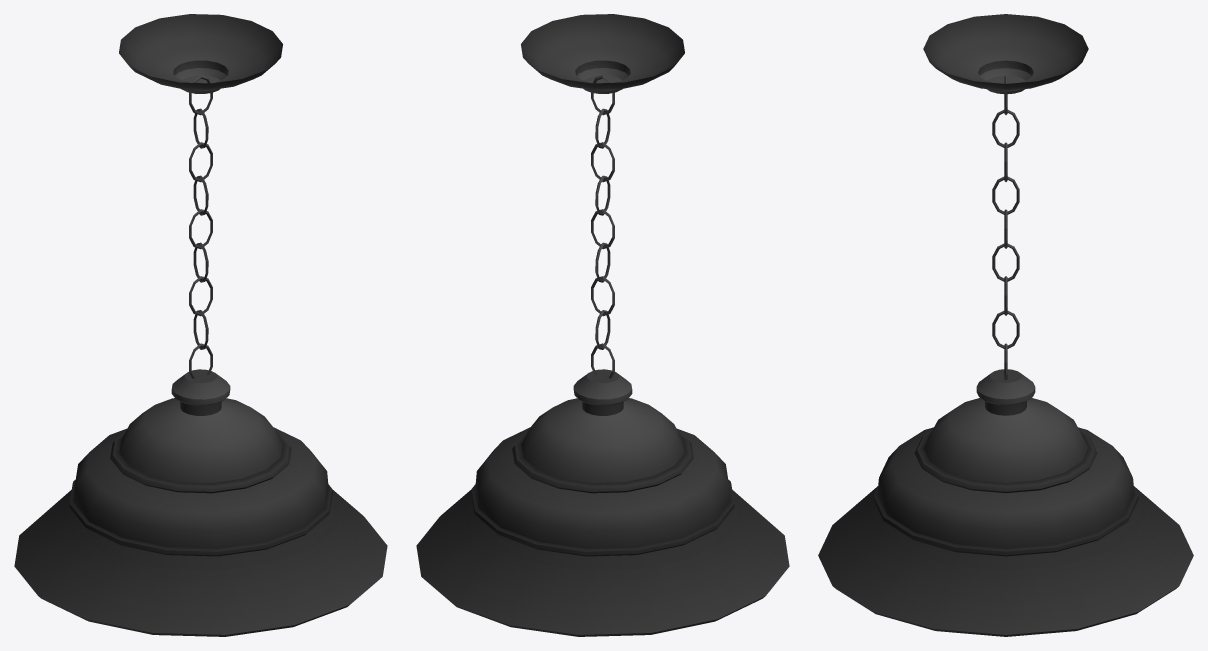
File: overheadLamp.fbx
The picture shows the model from 3 angles, left to right: view 1: azimuth 30°, elevation 25°; view 2: azimuth 150°, elevation 25°; view 3: azimuth 270°, elevation 25°; orthographic projection.
Parts seen in each view (by area): view 1: overheadLamp; view 2: overheadLamp; view 3: overheadLamp.
Part boxes in pixels (box(x1,y1,x2,y2)): overheadLamp: box(14, 14, 387, 636); overheadLamp: box(416, 14, 789, 636); overheadLamp: box(818, 14, 1193, 636).
Bounding box in the file's own units: 0.5403 × 0.8092 × 0.5403.
